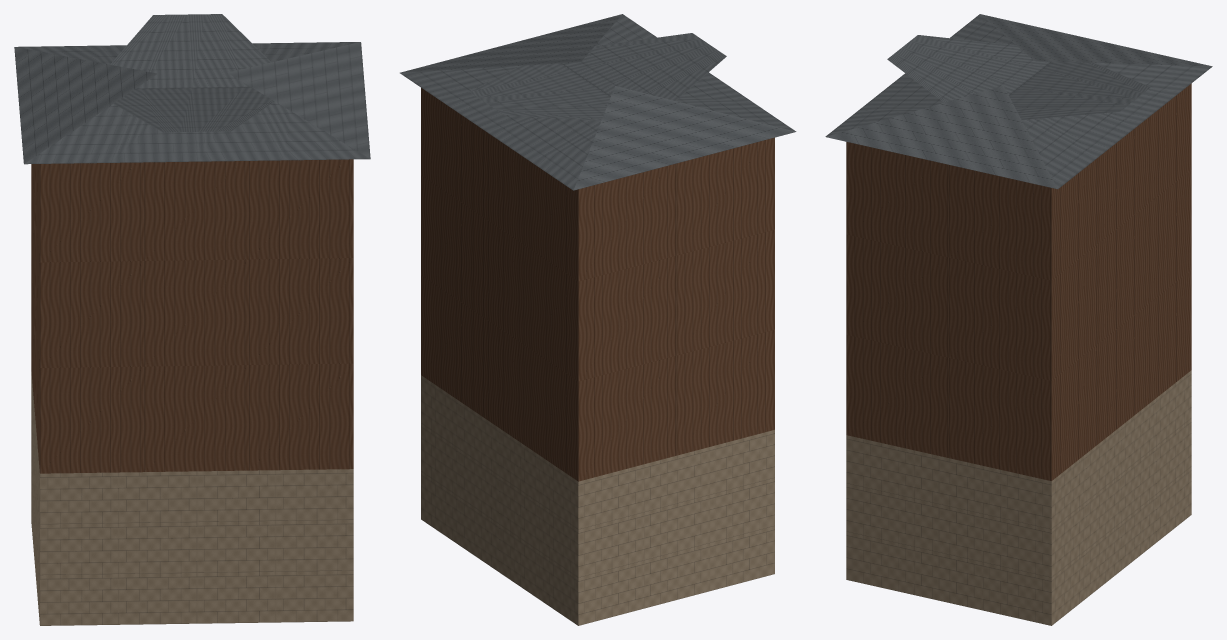
The model's file is bld_c11_9_512.gltf.
The picture shows the model from 3 angles, left to right: view 1: azimuth 30°, elevation 25°; view 2: azimuth 150°, elevation 25°; view 3: azimuth 270°, elevation 25°; orthographic projection. The views are drawn at different scales.
Visible parts, largest first — view 1: bld_c11_9_512; view 2: bld_c11_9_512; view 3: bld_c11_9_512.
Boxes of the visible parts, left/top/right/bottom form: bld_c11_9_512: left=14, top=14, right=370, bottom=625; bld_c11_9_512: left=400, top=14, right=796, bottom=625; bld_c11_9_512: left=825, top=14, right=1212, bottom=625.
Bounding box in the file's own units: 13.25 × 16.7 × 12.39.
3 materials, 3 textured.
